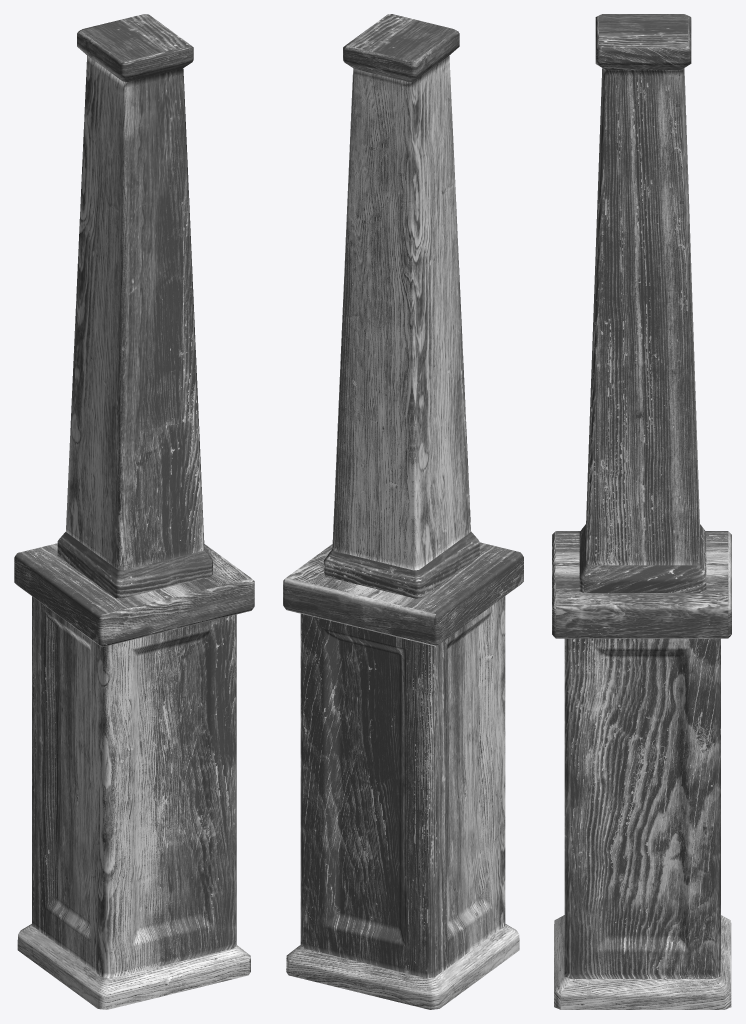
File: SM_Terrace_Pillar_C1@VertexColors_1.fbx
3 views of the same model, side by side, from view 1: azimuth 30°, elevation 25°; view 2: azimuth 150°, elevation 25°; view 3: azimuth 270°, elevation 25° (orthographic). The views are drawn at different scales.
Visible parts, largest first — view 1: SM_Terrace_Pillar_C1; view 2: SM_Terrace_Pillar_C1; view 3: SM_Terrace_Pillar_C1.
Boxes of the visible parts, x1,y1,x2,y2 form: SM_Terrace_Pillar_C1: (14,14,254,1009); SM_Terrace_Pillar_C1: (283,14,523,1009); SM_Terrace_Pillar_C1: (552,14,731,1009).
Bounding box in the file's own units: 39.46 × 38.6 × 223.
2 materials, 2 textured.
